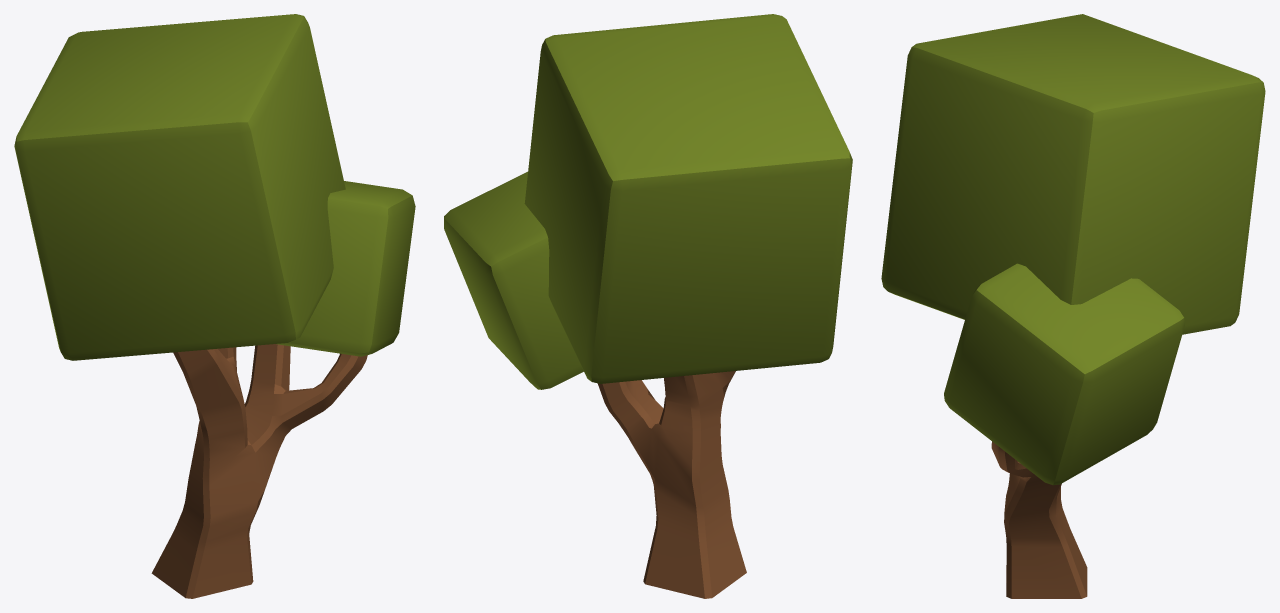
Rendered from Tree_2.fbx.
3 views of the same model, side by side, from view 1: azimuth 30°, elevation 25°; view 2: azimuth 150°, elevation 25°; view 3: azimuth 270°, elevation 25° (orthographic). The views are drawn at different scales.
Visible parts, largest first — view 1: Tree_2; view 2: Tree_2; view 3: Tree_2.
Boxes of the visible parts, x1=… form: Tree_2: x1=14, y1=14, x2=415, y2=598; Tree_2: x1=444, y1=14, x2=852, y2=598; Tree_2: x1=881, y1=14, x2=1265, y2=598.
Size of the model in its own units: 535 by 665 by 432.
1 material, 1 textured.
